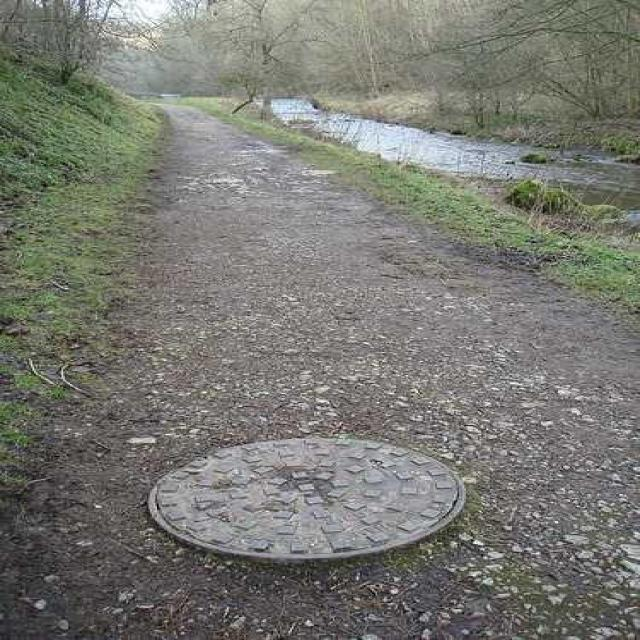manhole: (148, 438, 465, 562)
